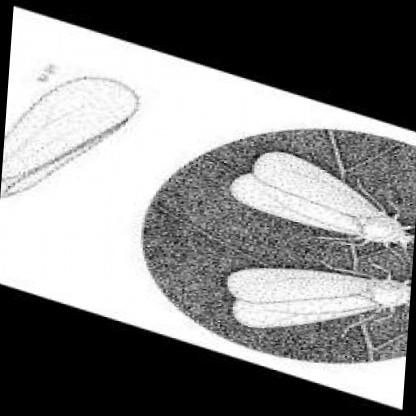whitefly: (224, 154, 407, 244), (220, 268, 404, 330)
